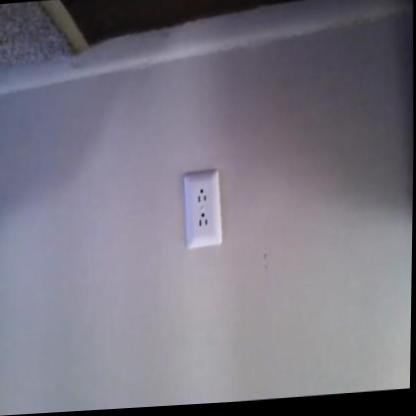OUTLET: (181, 169, 224, 249)
